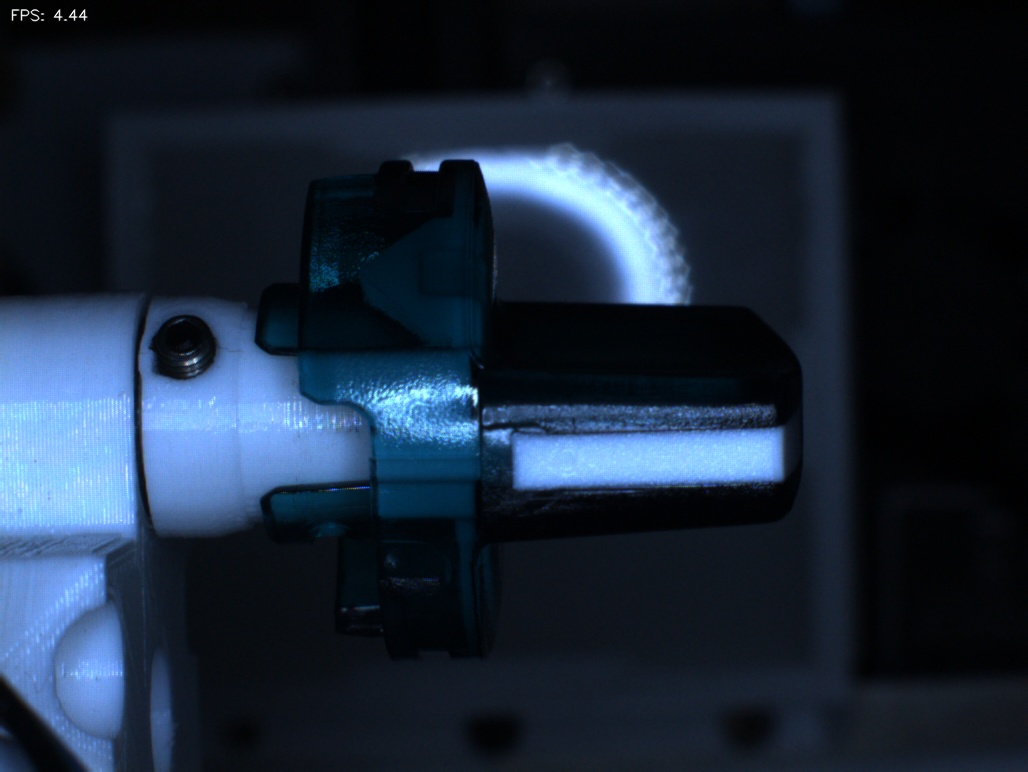DentOk: (334, 235, 411, 330)
